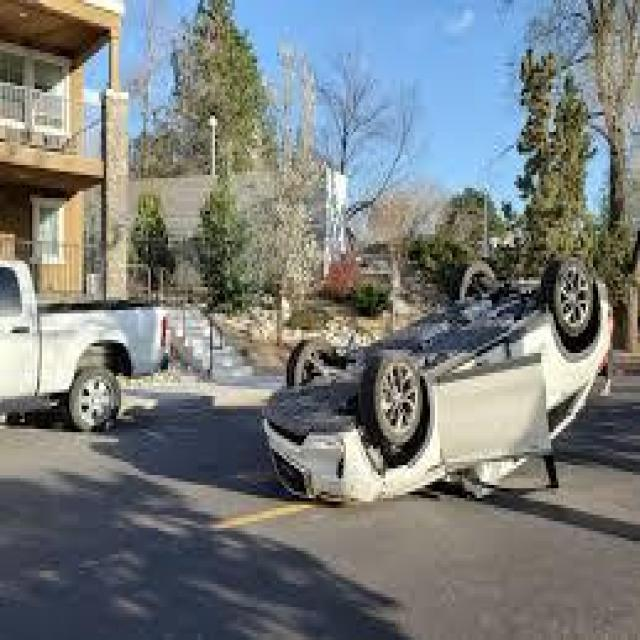severe: (258, 248, 614, 512)
